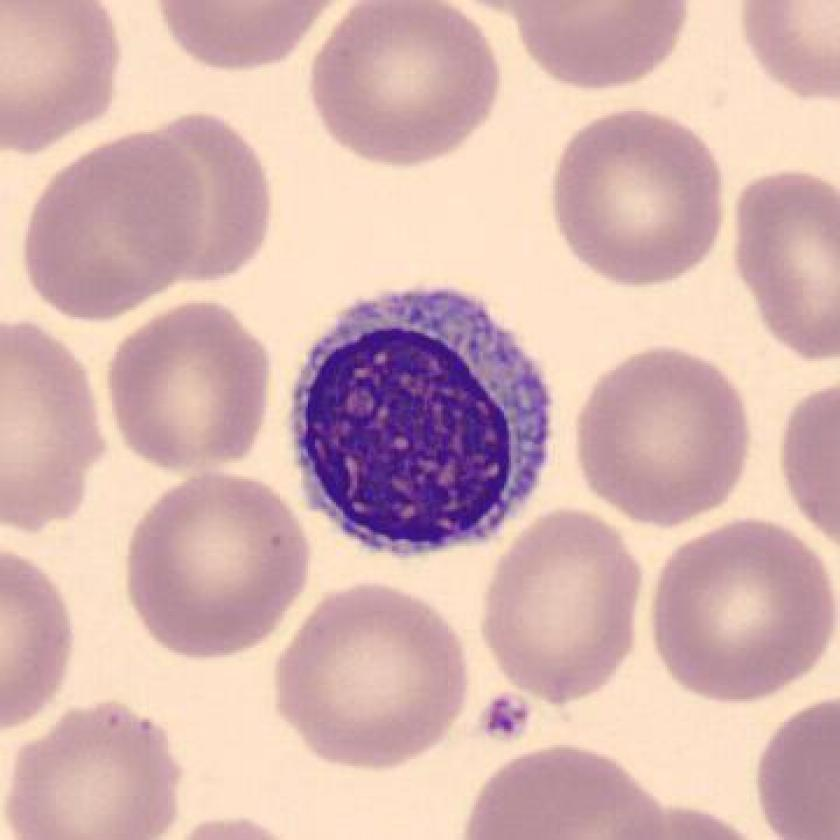lymphocyte: (279, 272, 561, 575)
platelets: (481, 691, 535, 748)
